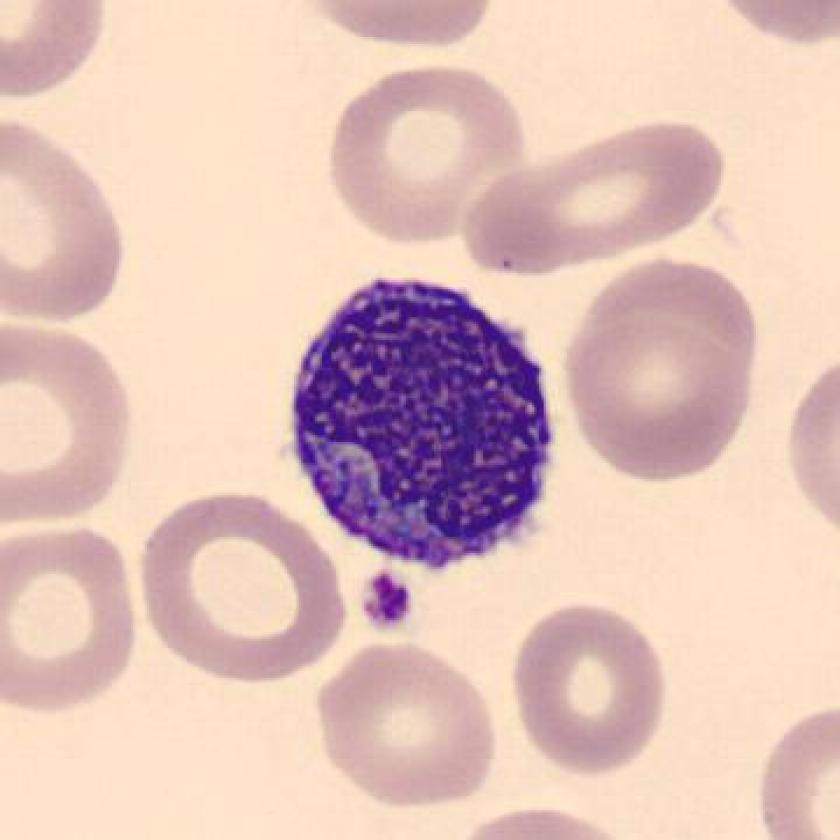monocyte: (272, 263, 570, 584)
